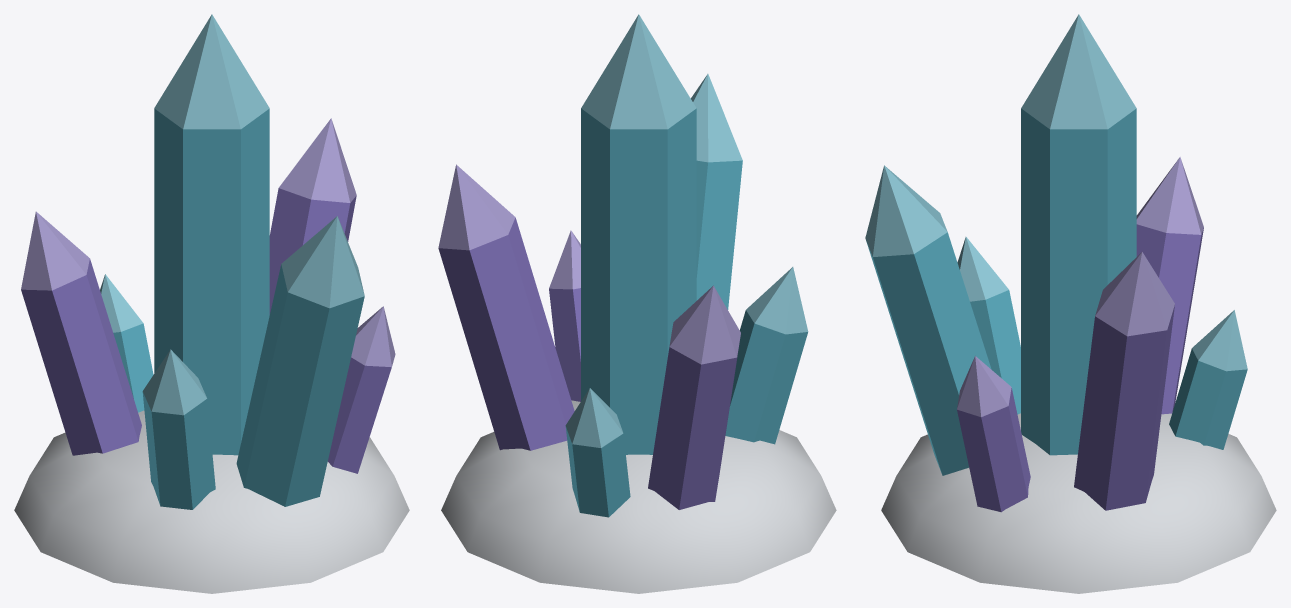
The model's file is ice-deco3.glb.
The picture shows the model from 3 angles, left to right: view 1: azimuth 30°, elevation 25°; view 2: azimuth 150°, elevation 25°; view 3: azimuth 270°, elevation 25°; orthographic projection.
Visible parts, largest first — view 1: ice-deco3; view 2: ice-deco3; view 3: ice-deco3.
Boxes of the visible parts, x1,y1,x2,y2 form: ice-deco3: (14, 14, 409, 593); ice-deco3: (438, 14, 836, 593); ice-deco3: (865, 14, 1276, 593).
Bounding box in the file's own units: 2.6 × 3.6 × 2.7.
